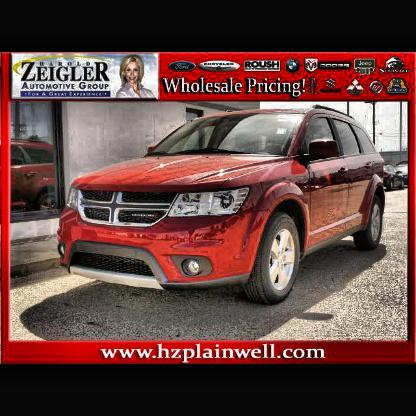Dodge Journey SUV 2012: (61, 109, 386, 301)
